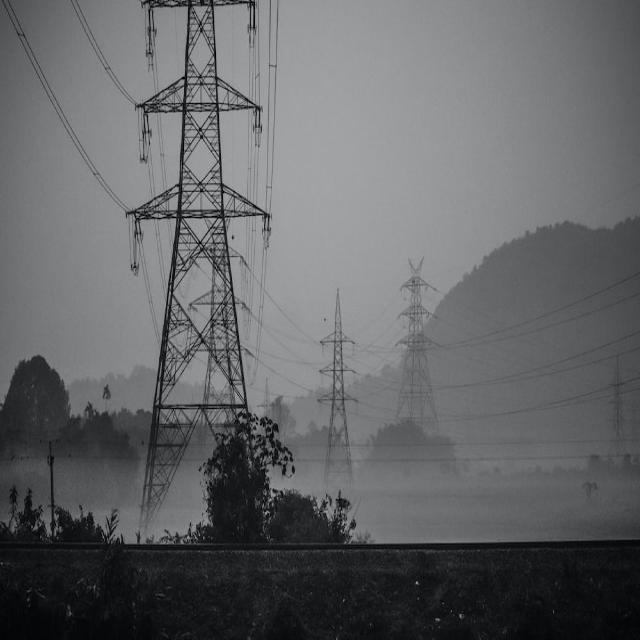transmission tower: (106, 1, 289, 535), (359, 214, 466, 472), (302, 247, 360, 546)
